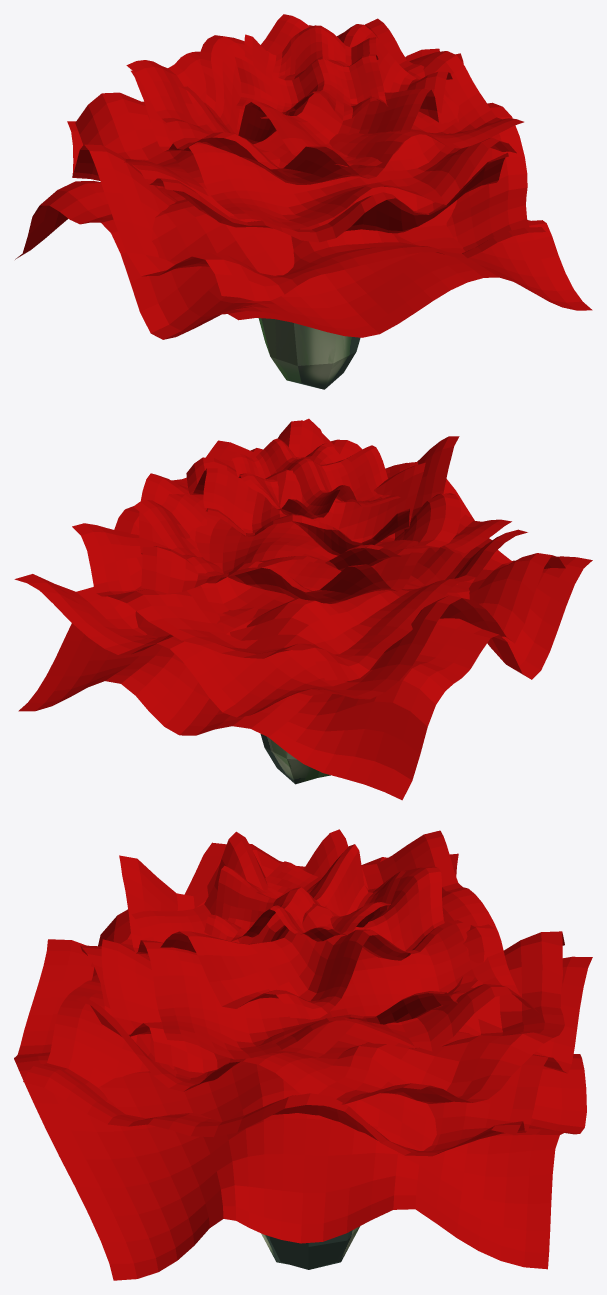
File: carnation_bud.glb
3 views of the same model, one above another, from view 1: azimuth 30°, elevation 25°; view 2: azimuth 150°, elevation 25°; view 3: azimuth 270°, elevation 25° (orthographic). The views are drawn at different scales.
Visible parts, largest first — view 1: carnation_bud; view 2: carnation_bud; view 3: carnation_bud.
Boxes of the visible parts, x1,y1,x2,y2 form: carnation_bud: [15, 14, 592, 389]; carnation_bud: [14, 418, 592, 800]; carnation_bud: [14, 829, 592, 1280].
Size of the model in its own units: 0.9719 by 0.7387 by 0.9911.
2 materials, 1 textured.
